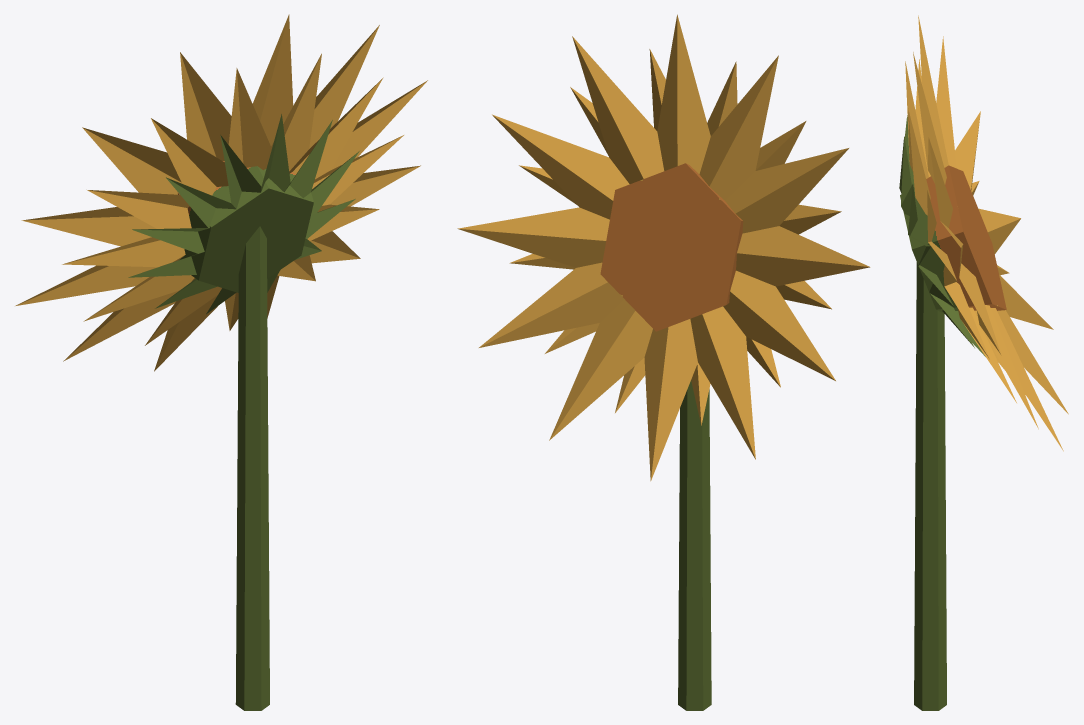
Rendered from sunflower.gltf.
3 views of the same model, side by side, from view 1: azimuth 30°, elevation 25°; view 2: azimuth 150°, elevation 25°; view 3: azimuth 270°, elevation 25° (orthographic). The views are drawn at different scales.
Parts seen in each view (by area): view 1: circle (×3), cylinder (×2); view 2: circle (×2), cylinder (×2); view 3: cylinder (×2), circle (×3).
Boxes of the visible parts, x1,y1,x2,y2 form: circle (×3): (15,14,427,371); cylinder (×2): (178,161,313,710); circle (×2): (457,14,870,481); cylinder (×2): (600,163,743,710); cylinder (×2): (900,165,1006,710); circle (×3): (899,15,1068,451).
Size of the model in its own units: 1 by 1.61 by 0.3716.
Materials: 1 (1 with a texture image).
